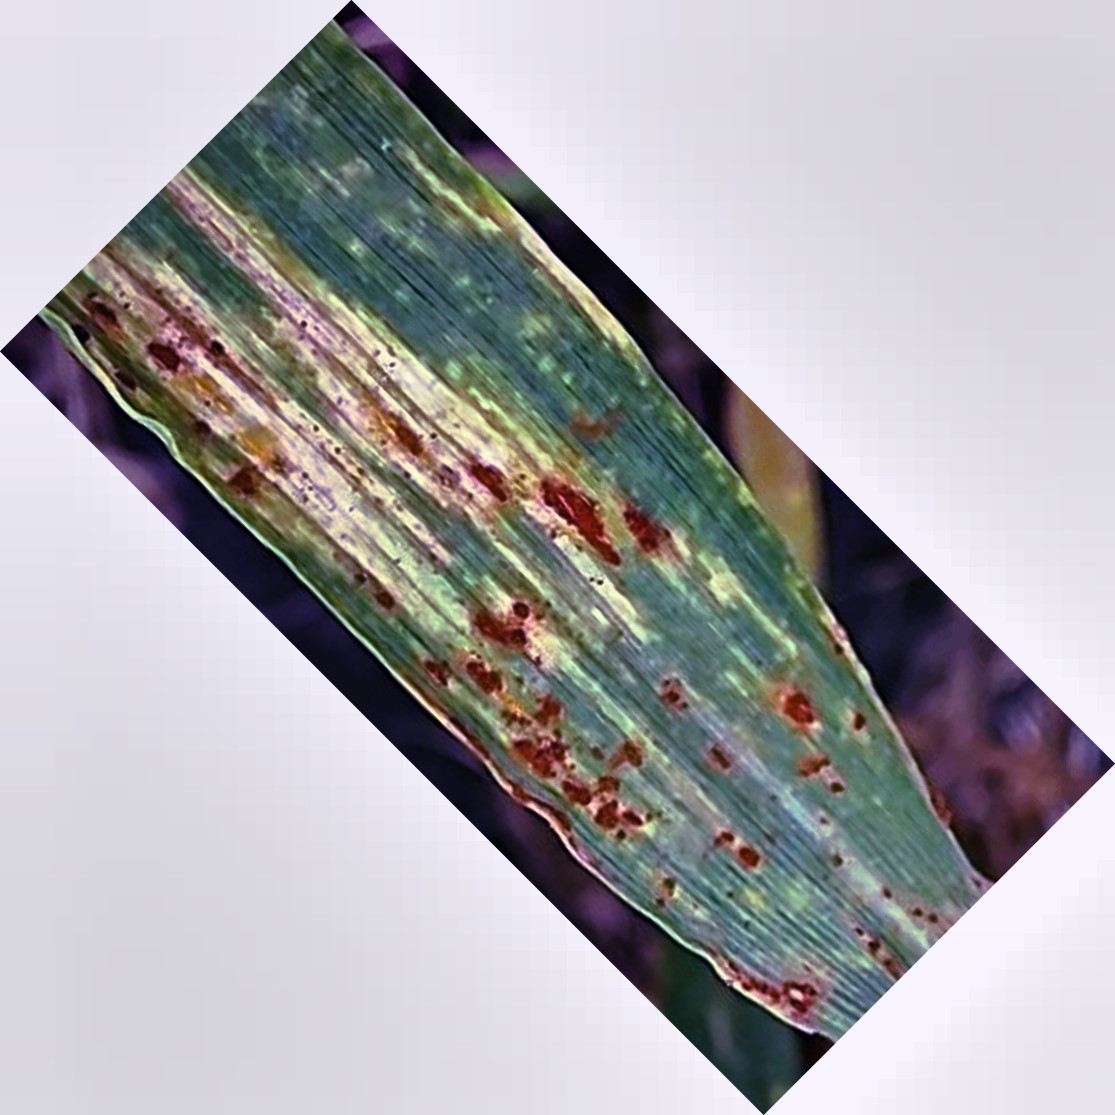Leaf Rust: (160, 280, 881, 985)
